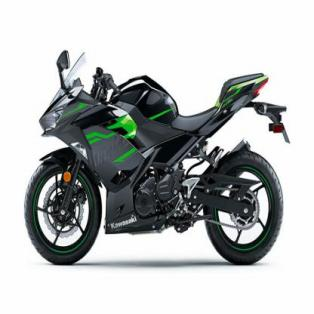Motocicleta: (22, 38, 290, 272)
